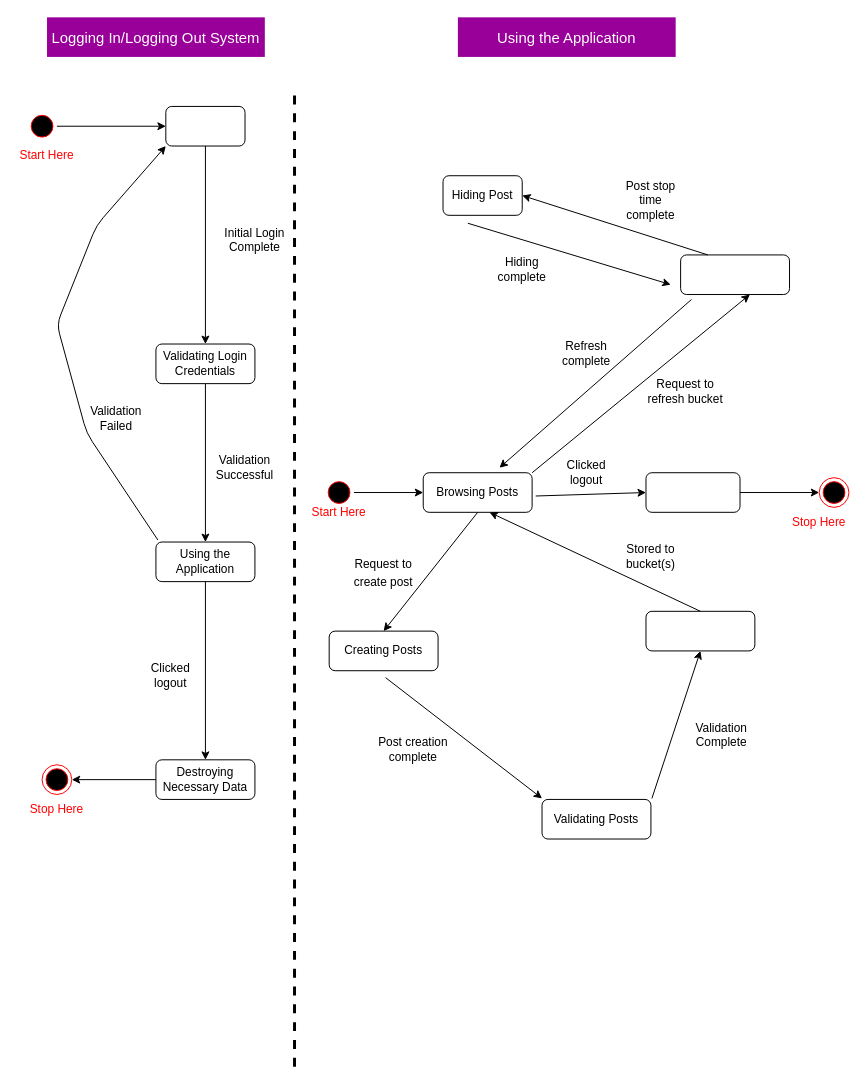
The diagram is 866 pixels wide and 1086 high, and some of its shapes have lost their labels. Here are the shapes that lost their labels. From the top down, the box of each, then its label:
(165, 105, 245, 146): Logging In
(680, 254, 790, 295): Refreshing Specified Bucket
(645, 472, 740, 512): Logging Out
(645, 610, 755, 651): Storing Post to Bucket(s)
